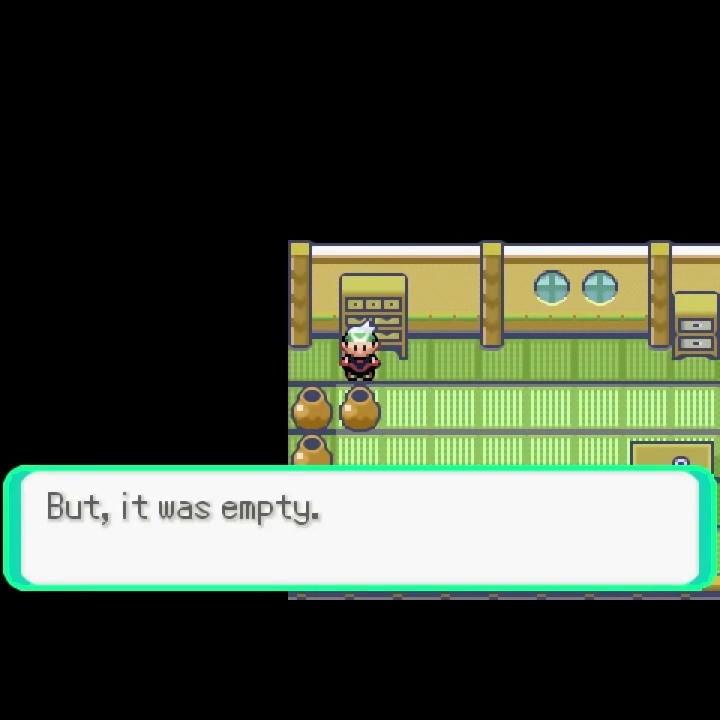agent: (337, 321, 383, 382)
